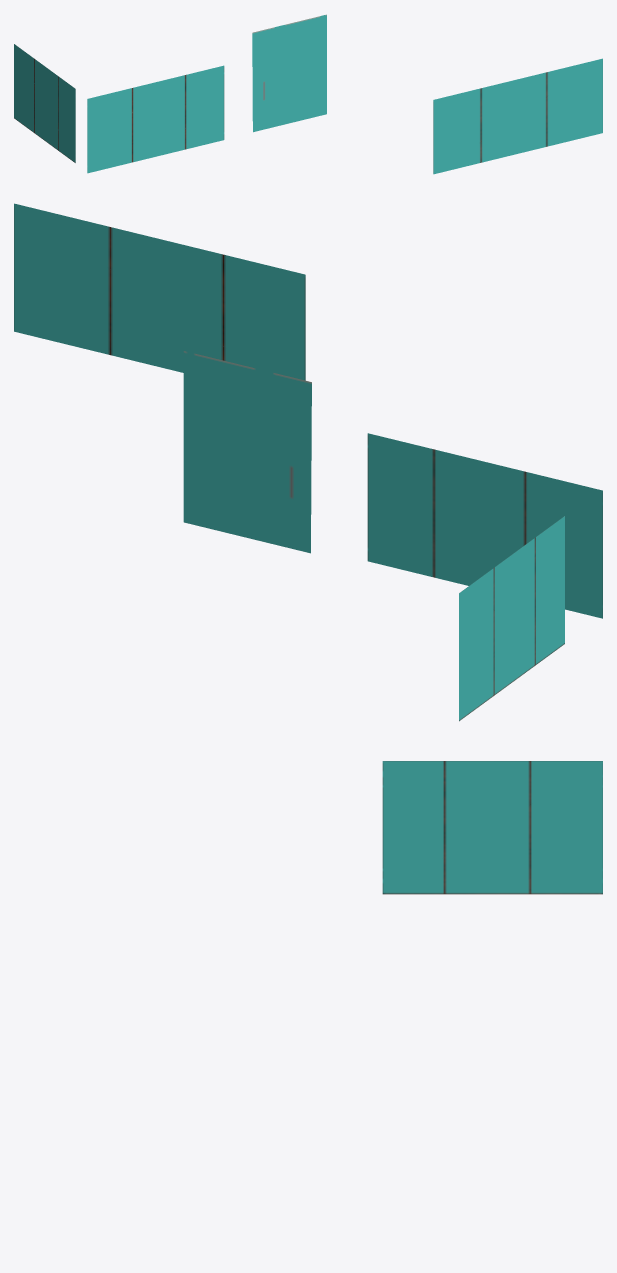
The model's file is mansion_doors_windows.glb.
The picture shows the model from 3 angles, top to bottom: view 1: azimuth 30°, elevation 25°; view 2: azimuth 150°, elevation 25°; view 3: azimuth 270°, elevation 25°; orthographic projection. The views are drawn at different scales.
Visible parts, largest first — view 1: Line001.001, window1, door, window2; view 2: Line001.001, window1, door, window2; view 3: window2.
Boxes of the visible parts, left/top/right/bottom form: Line001.001: left=433, top=58, right=602, bottom=174; window1: left=87, top=65, right=224, bottom=173; door: left=252, top=14, right=326, bottom=132; window2: left=14, top=44, right=75, bottom=162; Line001.001: left=14, top=203, right=305, bottom=380; window1: left=367, top=433, right=602, bottom=618; door: left=183, top=351, right=311, bottom=553; window2: left=459, top=516, right=564, bottom=721; window2: left=382, top=761, right=602, bottom=894.
Size of the model in its own units: 1.59 by 0.3612 by 1.06.
1 material, 1 textured.
